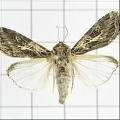Spodoptera litura: (0, 11, 120, 106)
